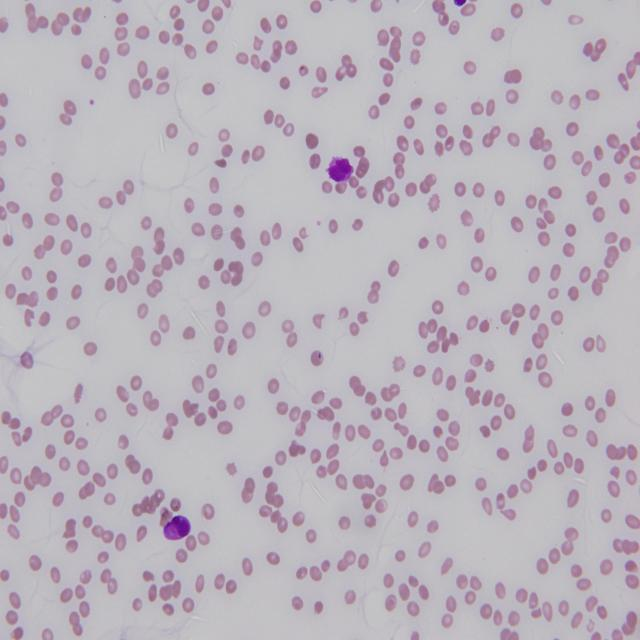cell: (326, 156, 354, 182), (164, 515, 190, 540)
